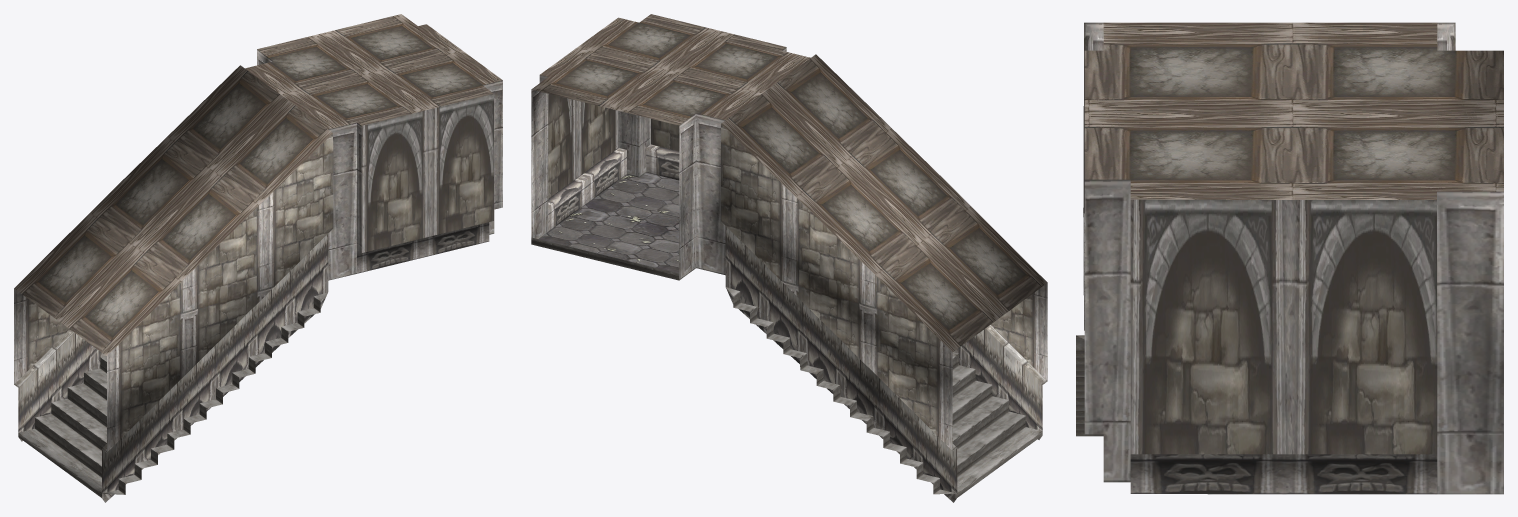
Rendered from stormwind_144.fbx.
3 views of the same model, side by side, from view 1: azimuth 30°, elevation 25°; view 2: azimuth 150°, elevation 25°; view 3: azimuth 270°, elevation 25° (orthographic). The views are drawn at different scales.
Visible parts, largest first — view 1: stormwind_144_156, stormwind_144_159, stormwind_144_152, stormwind_144_154, stormwind_144_158; view 2: stormwind_144_156, stormwind_144_159, stormwind_144_154, stormwind_144_152, stormwind_144_158, stormwind_144_157; view 3: stormwind_144_152, stormwind_144_156, stormwind_144_154, stormwind_144_158.
Part boxes in pixels (x1,y1,x2,y2): stormwind_144_156: (14, 14, 502, 355); stormwind_144_159: (14, 133, 333, 451); stormwind_144_152: (257, 49, 502, 280); stormwind_144_154: (14, 222, 489, 502); stormwind_144_158: (18, 292, 327, 497); stormwind_144_156: (531, 14, 1047, 352); stormwind_144_159: (721, 124, 1047, 450); stormwind_144_154: (548, 144, 1047, 502); stormwind_144_152: (531, 47, 786, 280); stormwind_144_158: (531, 237, 1042, 497); stormwind_144_157: (538, 172, 679, 273); stormwind_144_152: (1083, 22, 1503, 494); stormwind_144_156: (1084, 22, 1503, 199); stormwind_144_154: (1083, 213, 1437, 494); stormwind_144_158: (1076, 335, 1103, 436).
Bounding box in the file's own units: 14.37 × 10.74 × 6.52.
